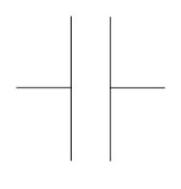Capacitor: (44, 11, 138, 167)
